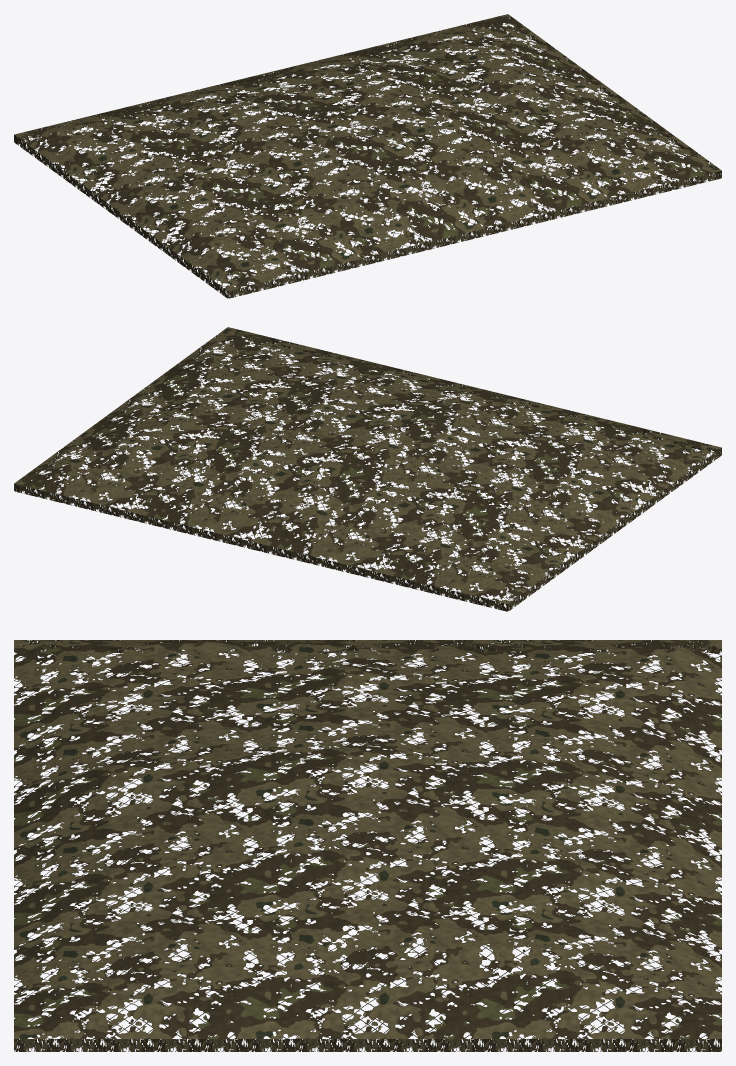
File: S7U_CamoNet_Drape.fbx
3 views of the same model, one above another, from view 1: azimuth 30°, elevation 25°; view 2: azimuth 150°, elevation 25°; view 3: azimuth 270°, elevation 25° (orthographic). The views are drawn at different scales.
Parts seen in each view (by area): view 1: S7U_CamoNet_Drape; view 2: S7U_CamoNet_Drape; view 3: S7U_CamoNet_Drape.
Boxes of the visible parts, x1,y1,x2,y2 form: S7U_CamoNet_Drape: (14, 14, 721, 298); S7U_CamoNet_Drape: (14, 327, 721, 611); S7U_CamoNet_Drape: (14, 640, 721, 1051).
Bounding box in the file's own units: 8 × 0.5996 × 6.
